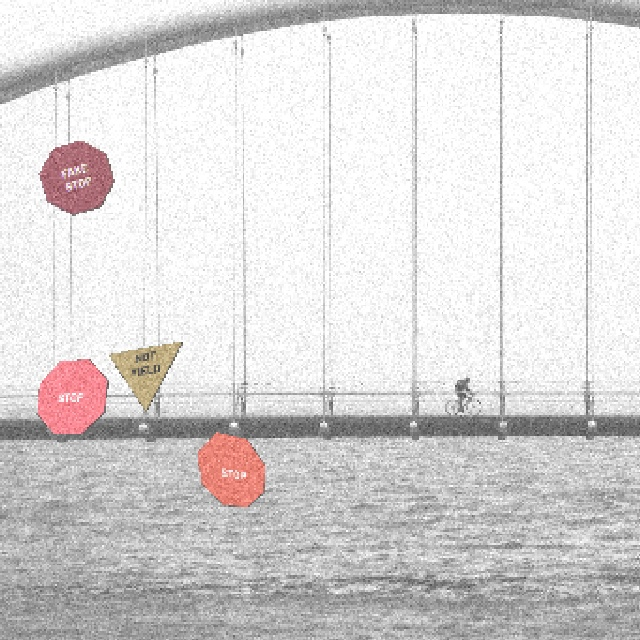FAKE_STOP: (37, 138, 113, 214)
NOT_YIELD: (106, 339, 182, 411)
STOP: (35, 357, 107, 433), (195, 430, 264, 506)
